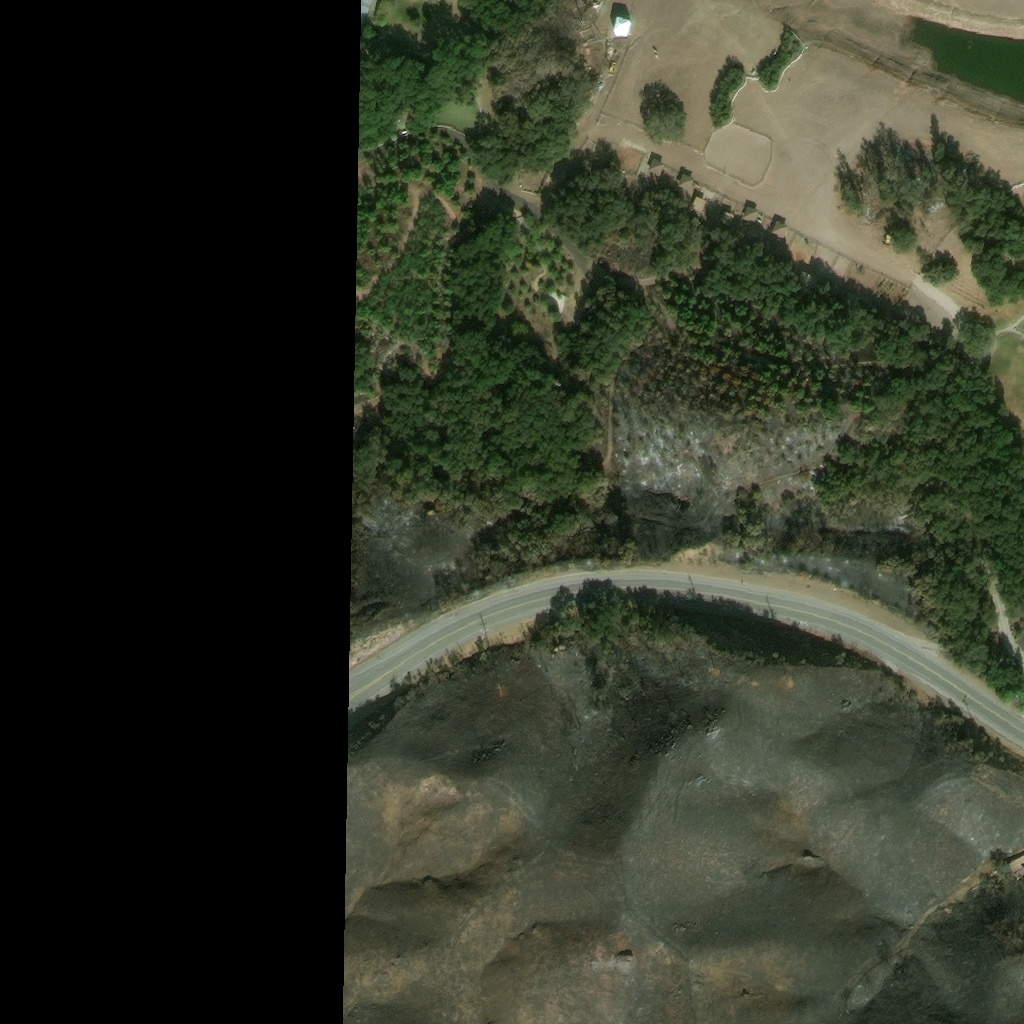0 no-damage: (574, 23, 595, 43), (797, 269, 816, 286), (771, 220, 787, 236), (677, 173, 693, 188), (690, 195, 705, 210), (719, 209, 734, 224), (648, 157, 662, 172), (742, 206, 756, 220), (362, 0, 370, 17), (590, 1, 599, 10)
